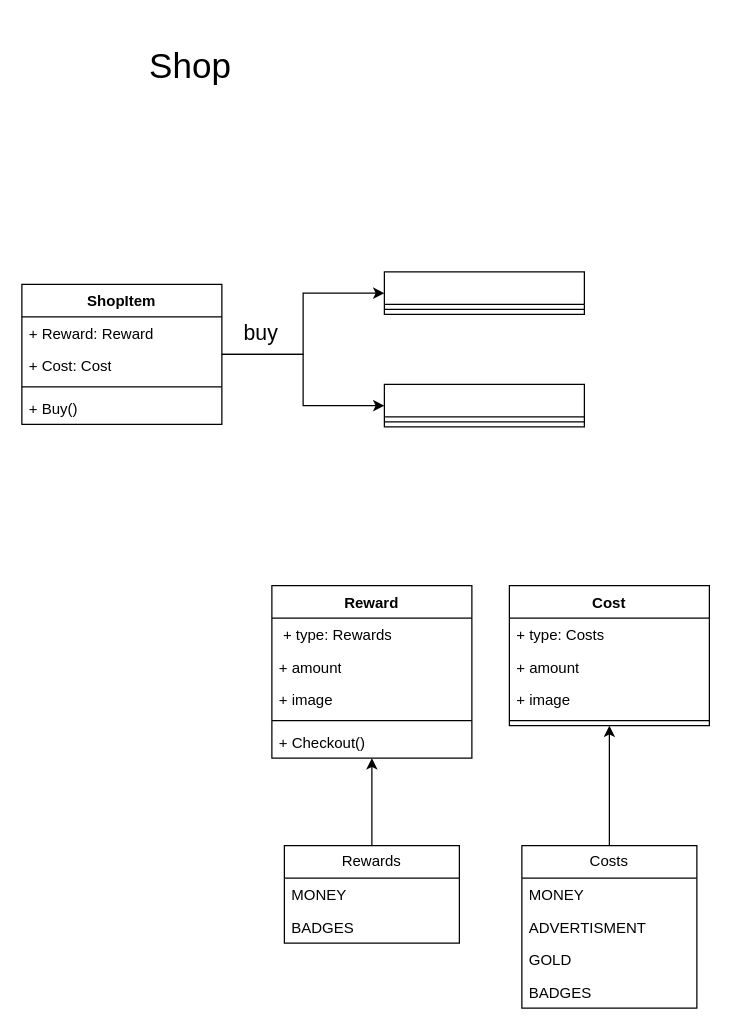
Image size: 731x1033. Some labels were removed from this diagram. The shapes that lost their labels are listed below. From the top down, each one's centre as x and y in pixels, then its label:
At point 483,292: "AdManager".
At point 483,405: "InAppBuyManager".
